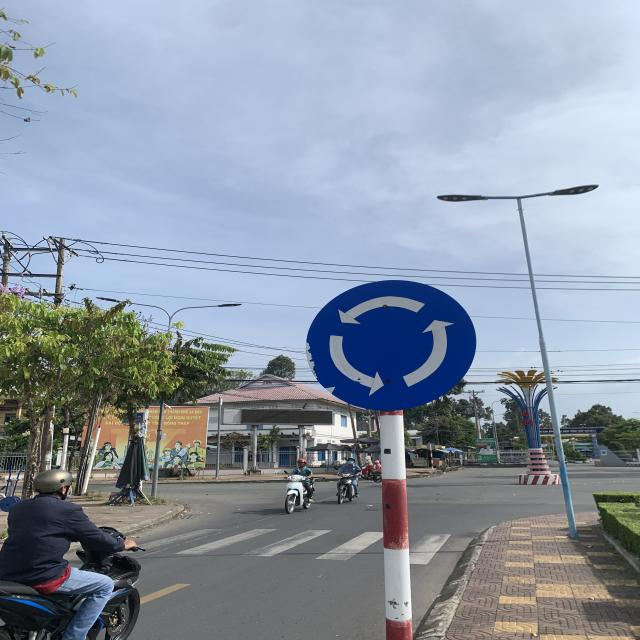Xe_Bus: (308, 280, 476, 411)
